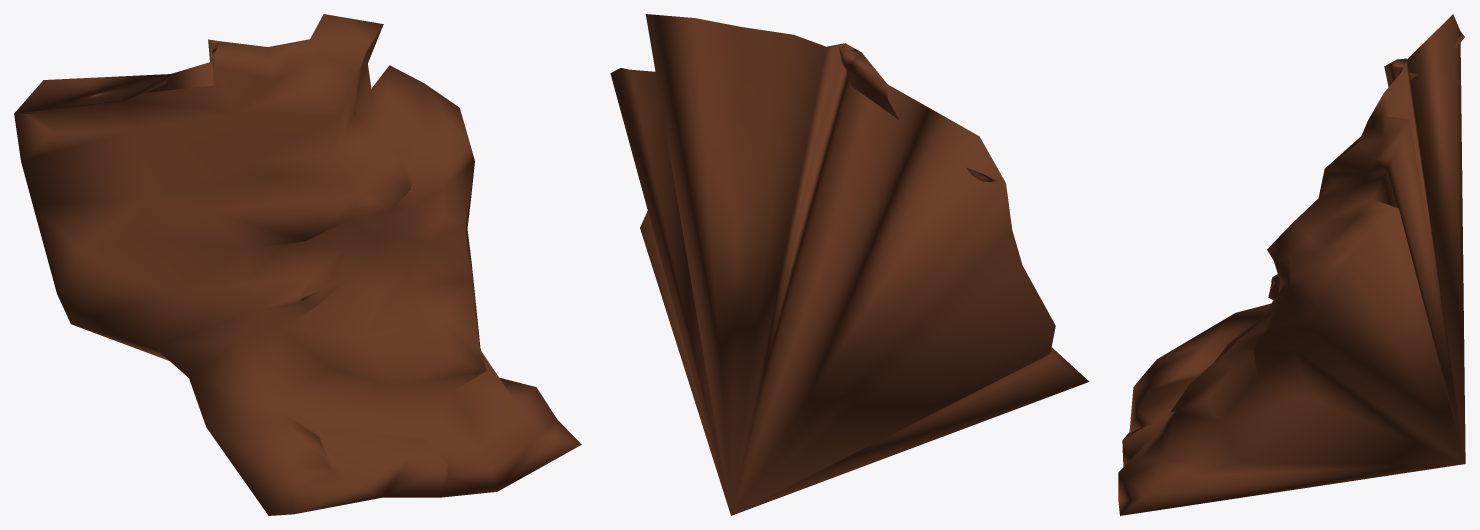
The model's file is cliff-face-red-lod1.glb.
3 renders of one model, left to right at view 1: azimuth 30°, elevation 25°; view 2: azimuth 150°, elevation 25°; view 3: azimuth 270°, elevation 25°, orthographic. The views are drawn at different scales.
Visible parts, largest first — view 1: cliff-face-red.001; view 2: cliff-face-red.001; view 3: cliff-face-red.001.
Part boxes in pixels (left/top/right/bottom): cliff-face-red.001: left=14, top=14, right=581, bottom=515; cliff-face-red.001: left=610, top=14, right=1089, bottom=515; cliff-face-red.001: left=1118, top=14, right=1465, bottom=515.
Size of the model in its own units: 9.63 by 8.94 by 7.47.
